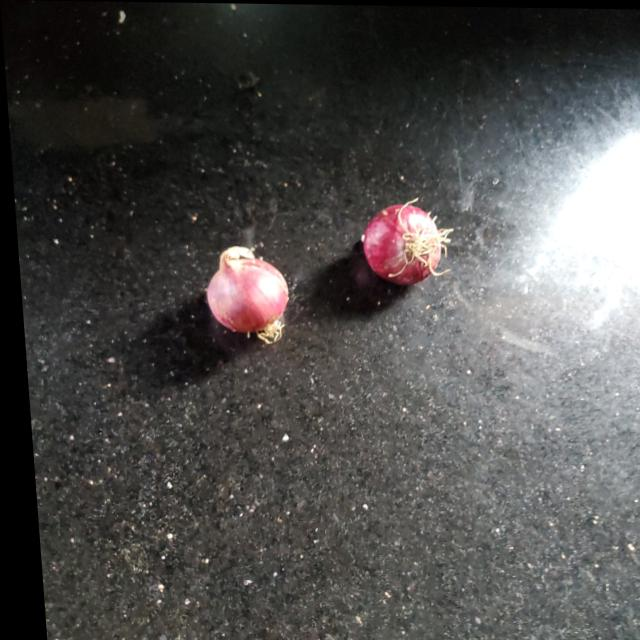onion: (197, 247, 288, 342), (355, 202, 438, 283)
